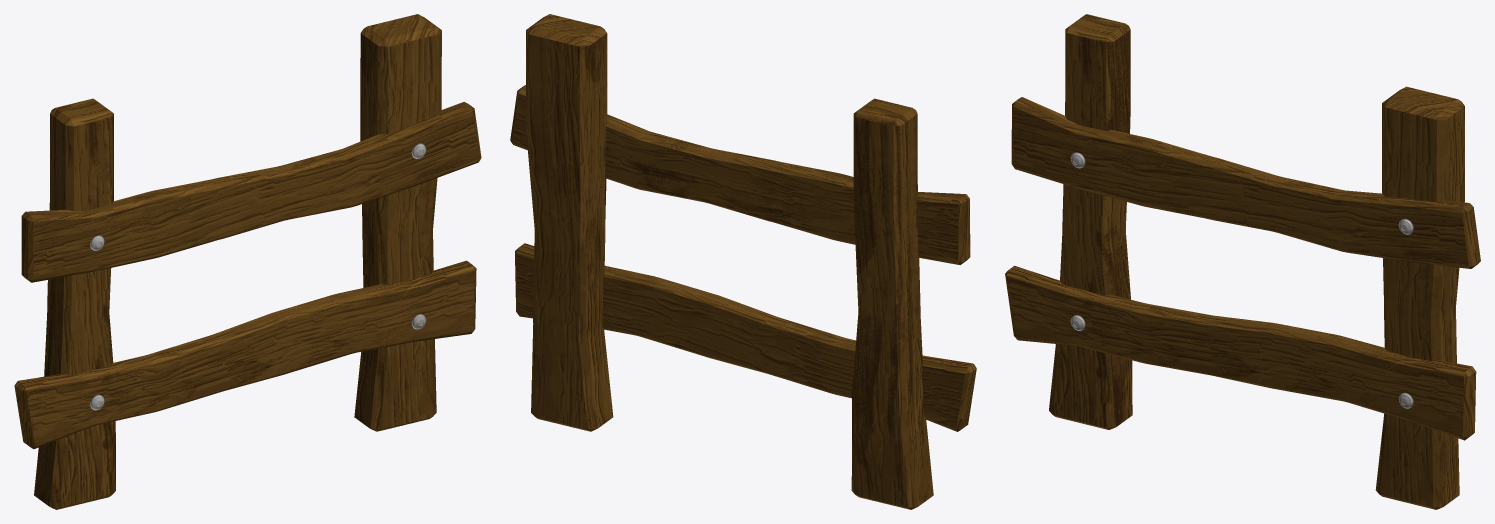
File: fence_1 1.fbx
3 renders of one model, left to right at view 1: azimuth 30°, elevation 25°; view 2: azimuth 150°, elevation 25°; view 3: azimuth 330°, elevation 25°, orthographic. The views are drawn at different scales.
Parts seen in each view (by area): view 1: fence_1; view 2: fence_1; view 3: fence_1.
Part boxes in pixels (x1,y1,x2,y2): fence_1: (14,14,481,509); fence_1: (510,14,976,509); fence_1: (1005,14,1480,509).
Size of the model in its own units: 2.9 by 2.36 by 0.3431.
